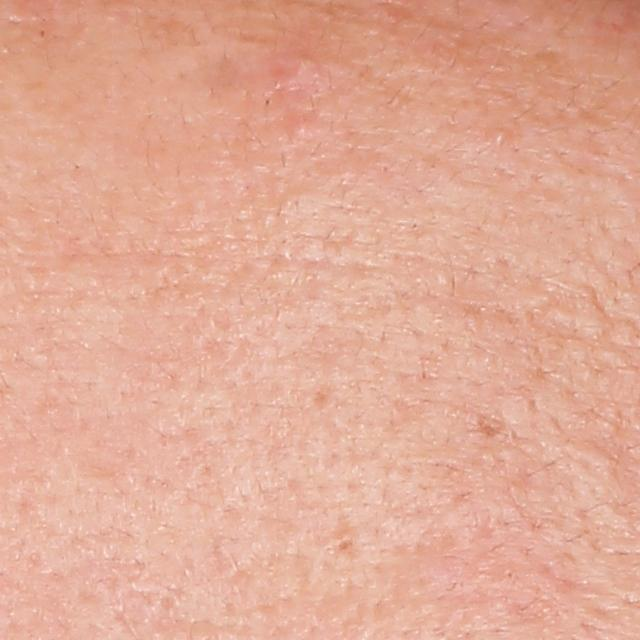atrophic_scar: (468, 413, 507, 439)
comedo: (270, 50, 327, 93), (284, 111, 325, 141)
